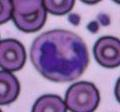N: (30, 29, 90, 81)
